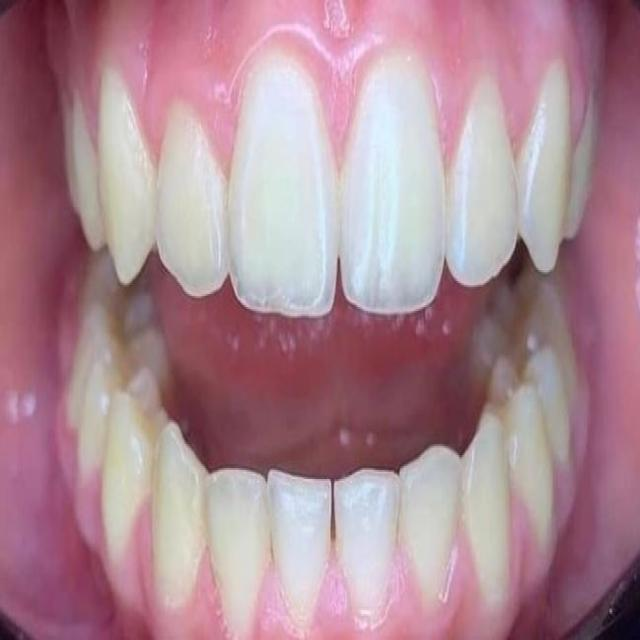1st Molar: (471, 270, 577, 390), (67, 302, 166, 411)
1st Premolar: (102, 394, 168, 564), (502, 387, 554, 549), (65, 100, 103, 250), (567, 102, 602, 237)
2nd Premolar: (76, 357, 158, 481), (490, 342, 572, 464)
Canine: (98, 67, 158, 285), (516, 57, 573, 276), (461, 414, 513, 616), (154, 424, 205, 609)
Central Incisor: (337, 48, 445, 316), (227, 61, 339, 316), (334, 472, 400, 625), (268, 472, 333, 625)
Lateral Incisor: (445, 74, 520, 289), (156, 100, 229, 300), (206, 470, 272, 640), (400, 442, 462, 616)
